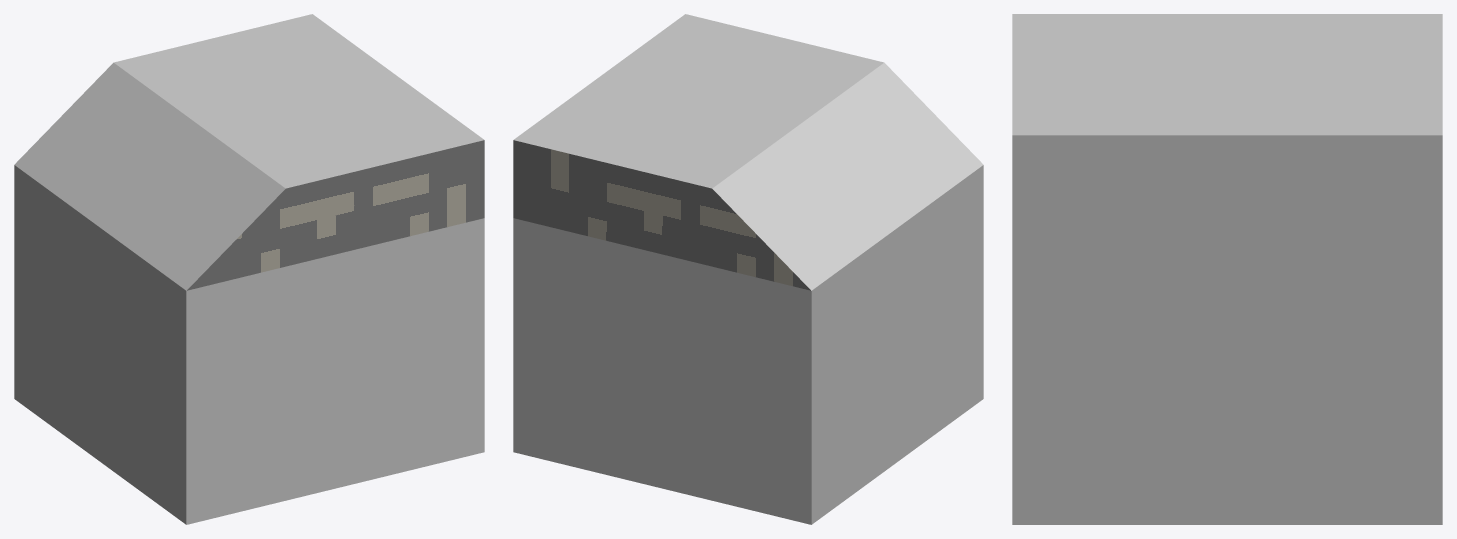
File: slope75_shave8_base12.obj
3 views of the same model, side by side, from view 1: azimuth 30°, elevation 25°; view 2: azimuth 150°, elevation 25°; view 3: azimuth 270°, elevation 25° (orthographic). The views are drawn at different scales.
Bounding box in the file's own units: 1 × 1 × 1.
